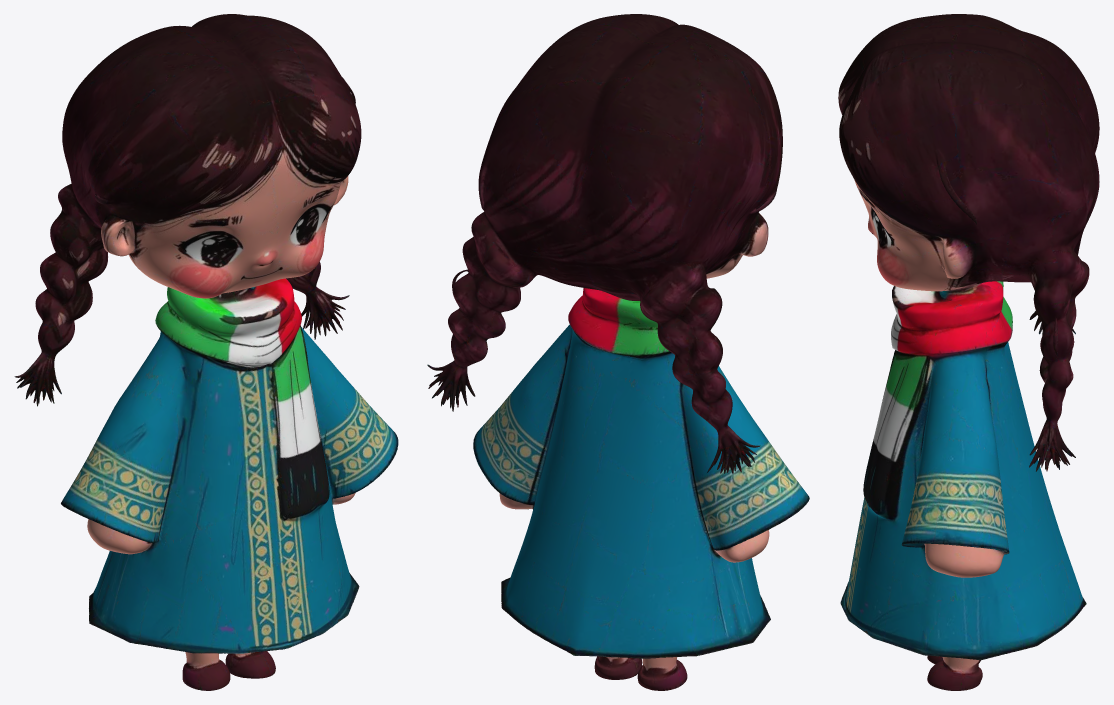
Rendered from hala-uae-scarf.glb.
3 views of the same model, side by side, from view 1: azimuth 30°, elevation 25°; view 2: azimuth 150°, elevation 25°; view 3: azimuth 270°, elevation 25° (orthographic).
Size of the model in its own units: 1.03 by 1.9 by 0.7059.
Materials: 1 (1 with a texture image).
